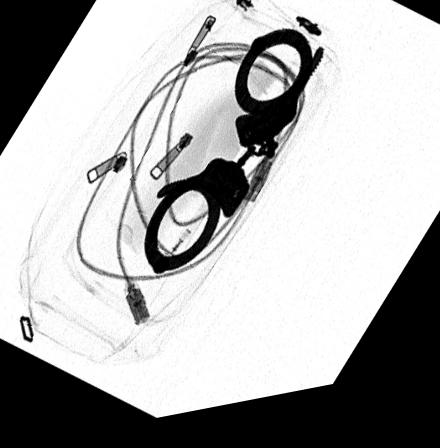HandCuffs: (139, 35, 325, 283)
